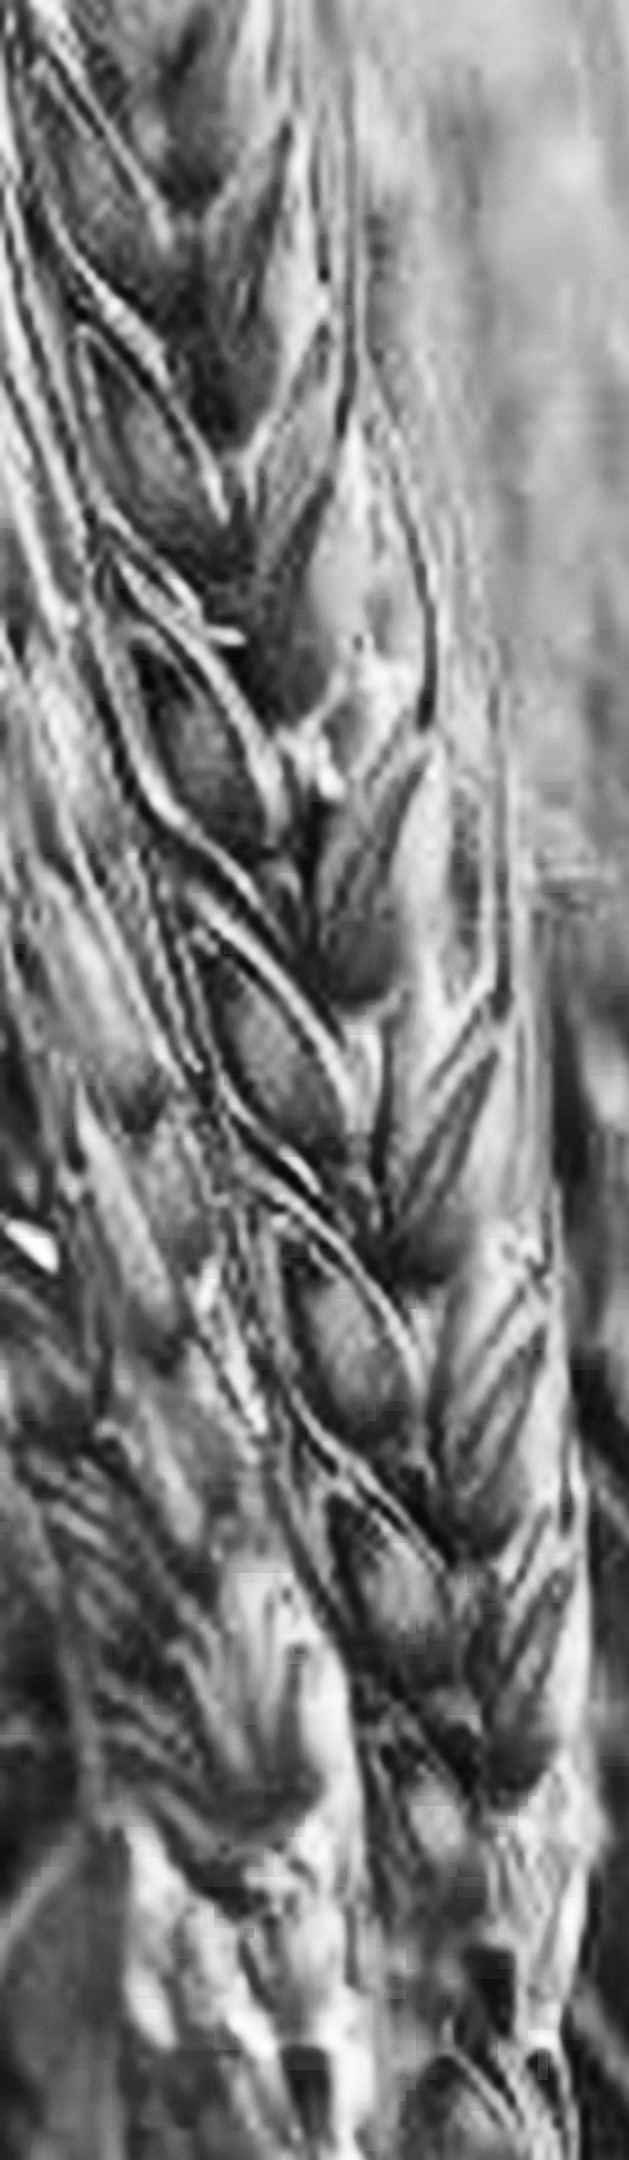Healthy Wheat: (50, 56, 629, 1836)
